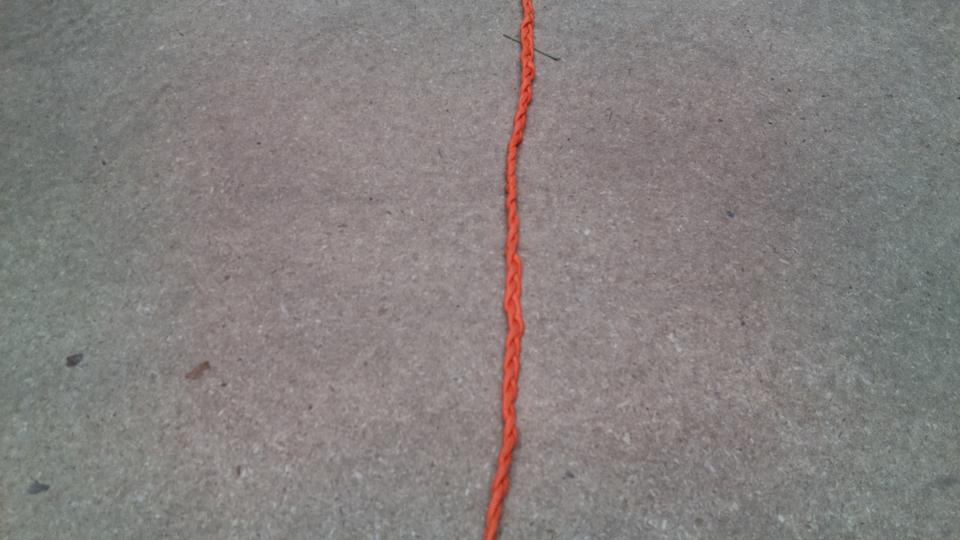rope: (477, 1, 541, 540)
